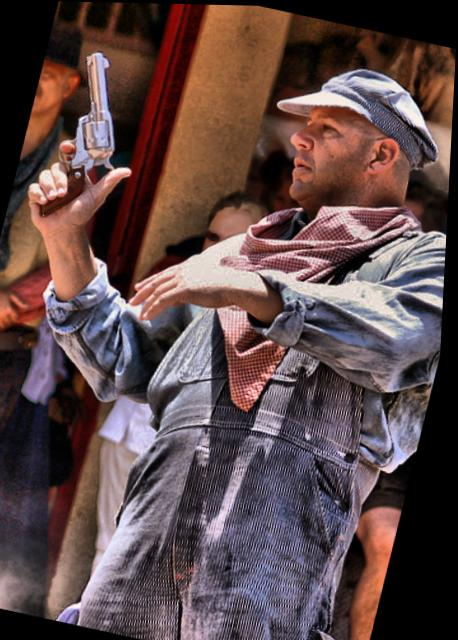pistol: (31, 42, 140, 229)
